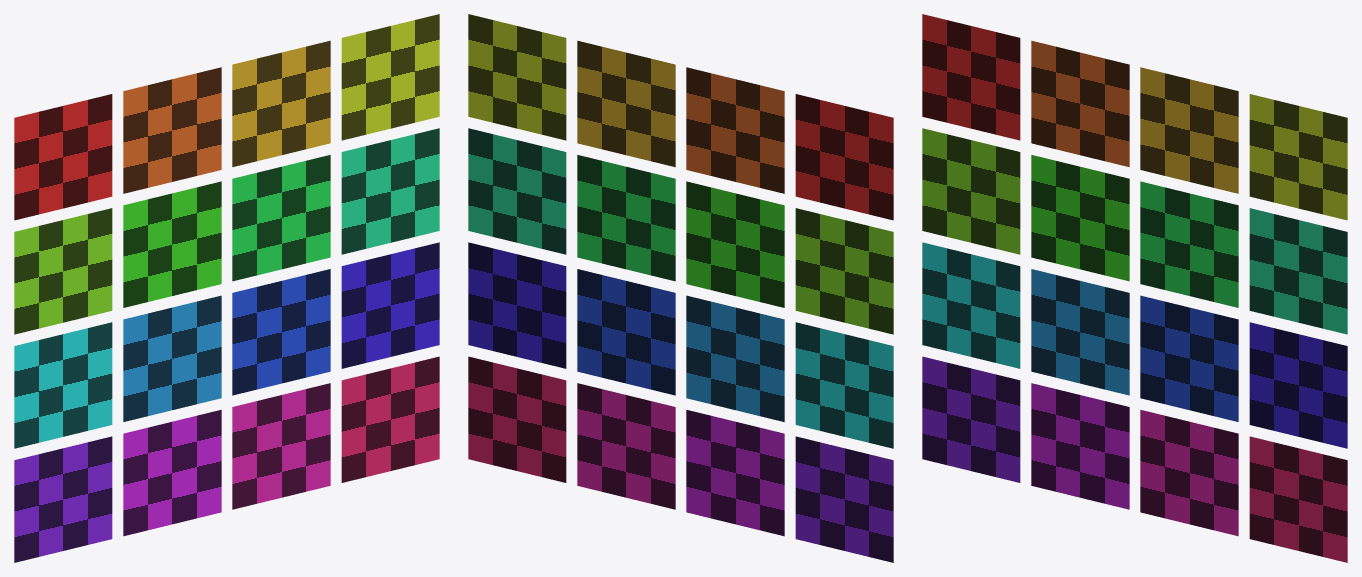
File: textures_in_fixture.gltf
3 views of the same model, side by side, from view 1: azimuth 30°, elevation 25°; view 2: azimuth 150°, elevation 25°; view 3: azimuth 330°, elevation 25° (orthographic).
Visible parts, largest first — view 1: tile_06, tile_09, tile_00, tile_04, tile_11, tile_15, tile_01, tile_02, tile_03, tile_12, tile_13, tile_14 (+4 smaller); view 2: tile_06, tile_09, tile_00, tile_04, tile_11, tile_15, tile_01, tile_02, tile_03, tile_12, tile_13, tile_14 (+4 smaller); view 3: tile_05, tile_10, tile_03, tile_07, tile_08, tile_12, tile_00, tile_01, tile_02, tile_13, tile_14, tile_15 (+4 smaller).
Part boxes in pixels (x1,y1,x2,y2): tile_06: (232, 155, 330, 281); tile_09: (123, 295, 221, 421); tile_00: (14, 94, 112, 220); tile_04: (14, 208, 112, 334); tile_11: (341, 242, 439, 368); tile_15: (341, 356, 439, 482); tile_01: (123, 67, 221, 193); tile_02: (232, 40, 330, 167); tile_03: (341, 14, 439, 140); tile_12: (14, 436, 112, 562); tile_13: (123, 409, 221, 536); tile_14: (232, 383, 330, 509); tile_06: (577, 155, 675, 281); tile_09: (686, 295, 784, 421); tile_00: (795, 94, 893, 220); tile_04: (795, 208, 893, 334); tile_11: (468, 242, 566, 368); tile_15: (468, 356, 566, 482); tile_01: (686, 67, 784, 193); tile_02: (577, 40, 675, 167); tile_03: (468, 14, 566, 140); tile_12: (795, 436, 893, 562); tile_13: (686, 409, 784, 536); tile_14: (577, 383, 675, 509); tile_05: (1031, 155, 1129, 281); tile_10: (1140, 295, 1238, 421); tile_03: (1249, 94, 1347, 220); tile_07: (1249, 208, 1347, 334); tile_08: (922, 242, 1020, 368); tile_12: (922, 356, 1020, 482); tile_00: (922, 14, 1020, 140); tile_01: (1031, 40, 1129, 167); tile_02: (1140, 67, 1238, 193); tile_13: (1031, 383, 1129, 509); tile_14: (1140, 409, 1238, 536); tile_15: (1249, 436, 1347, 562).
Size of the model in its own units: 3.9 by 3.9 by 0.
Materials: 16 (16 with a texture image).
